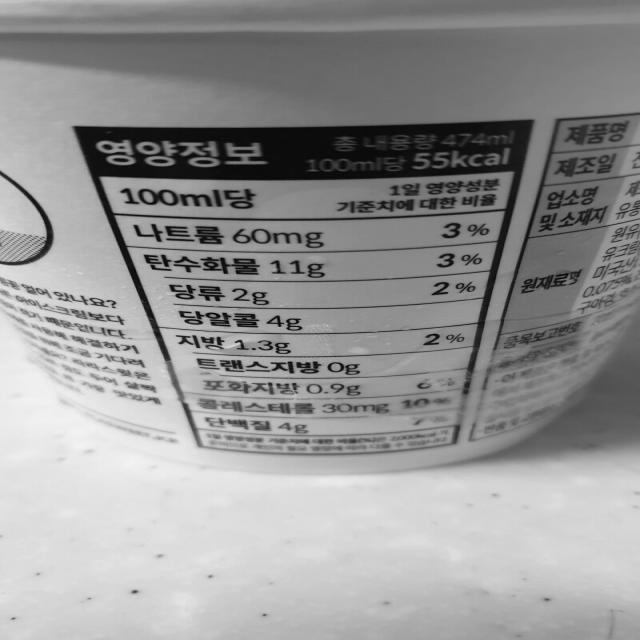Nutrition Label: (56, 117, 552, 463)
